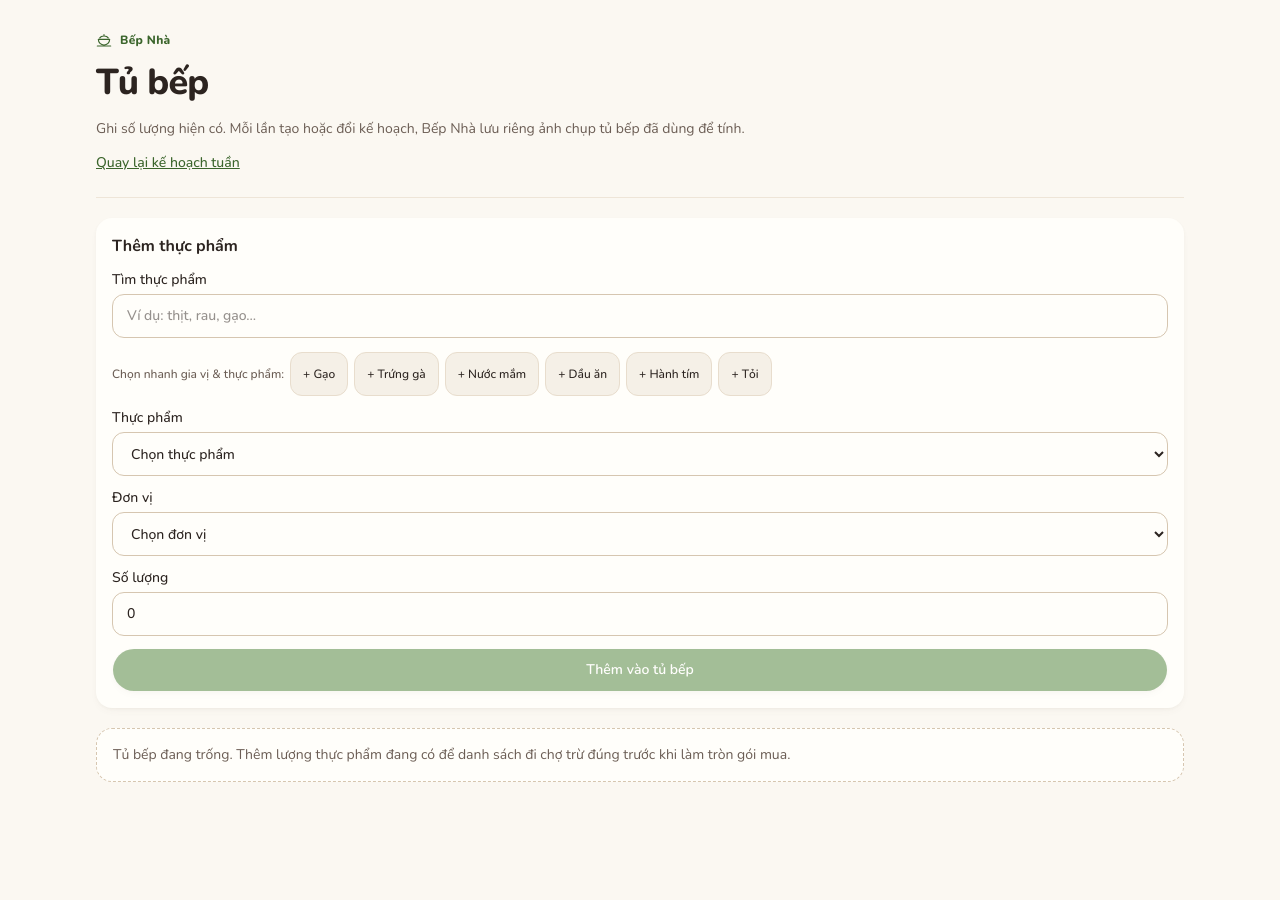
Test: PantryPage › remembers a successful save and offers it again after removal
The image size is (1280, 900).
Expected: the heading "Tủ bếp" is shown, top-left (96, 58), bottom-right (208, 107)
What coordinates should you click on to do the following:
click the button "+ Gạo"
I would click on:
 (319, 374)
Its box is top-left (290, 352), bottom-right (348, 396).
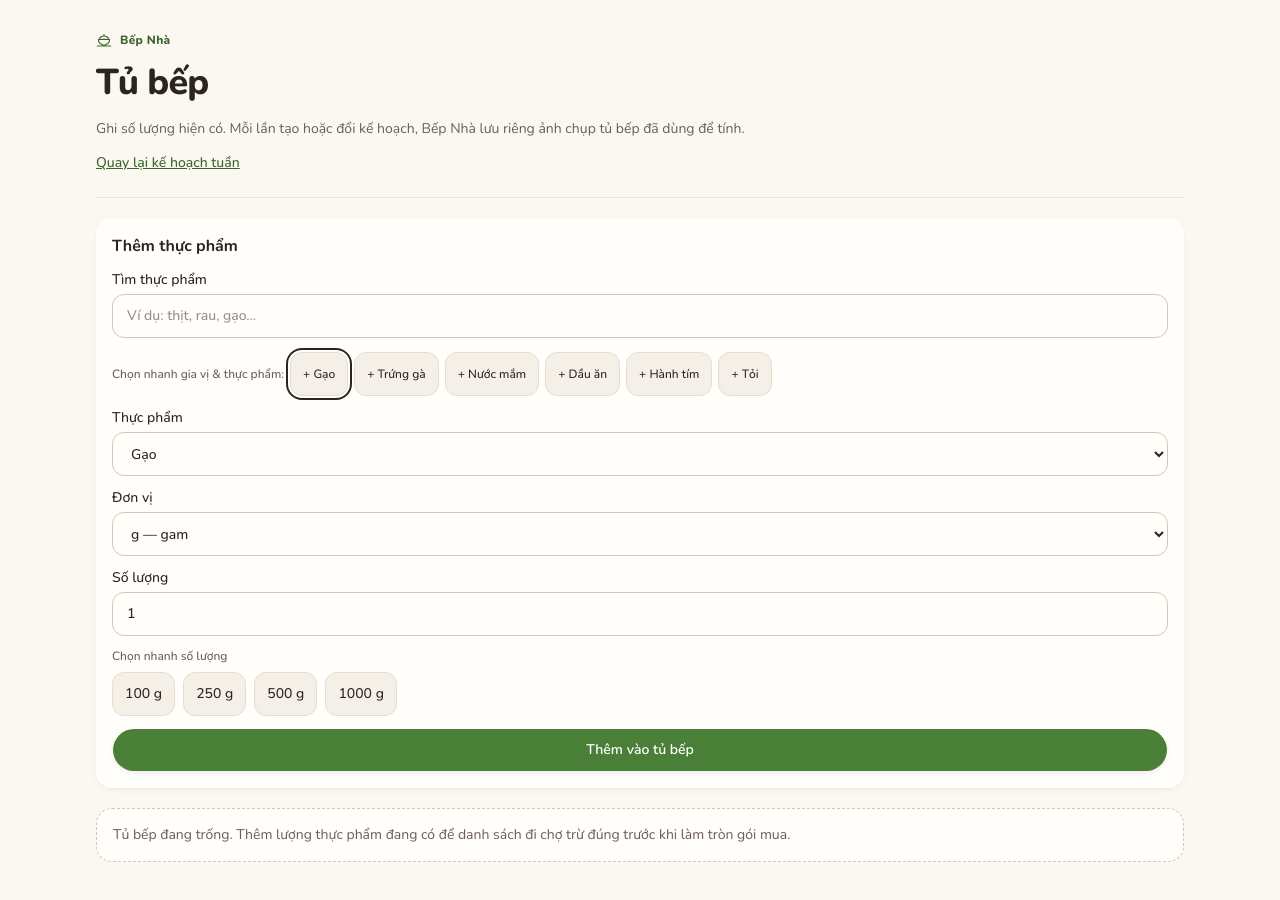
What coordinates should you click on to do the following:
click the button "Thêm vào tủ bếp"
I would click on:
 (640, 750)
Its box is top-left (112, 728), bottom-right (1168, 772).
(page scrolled)
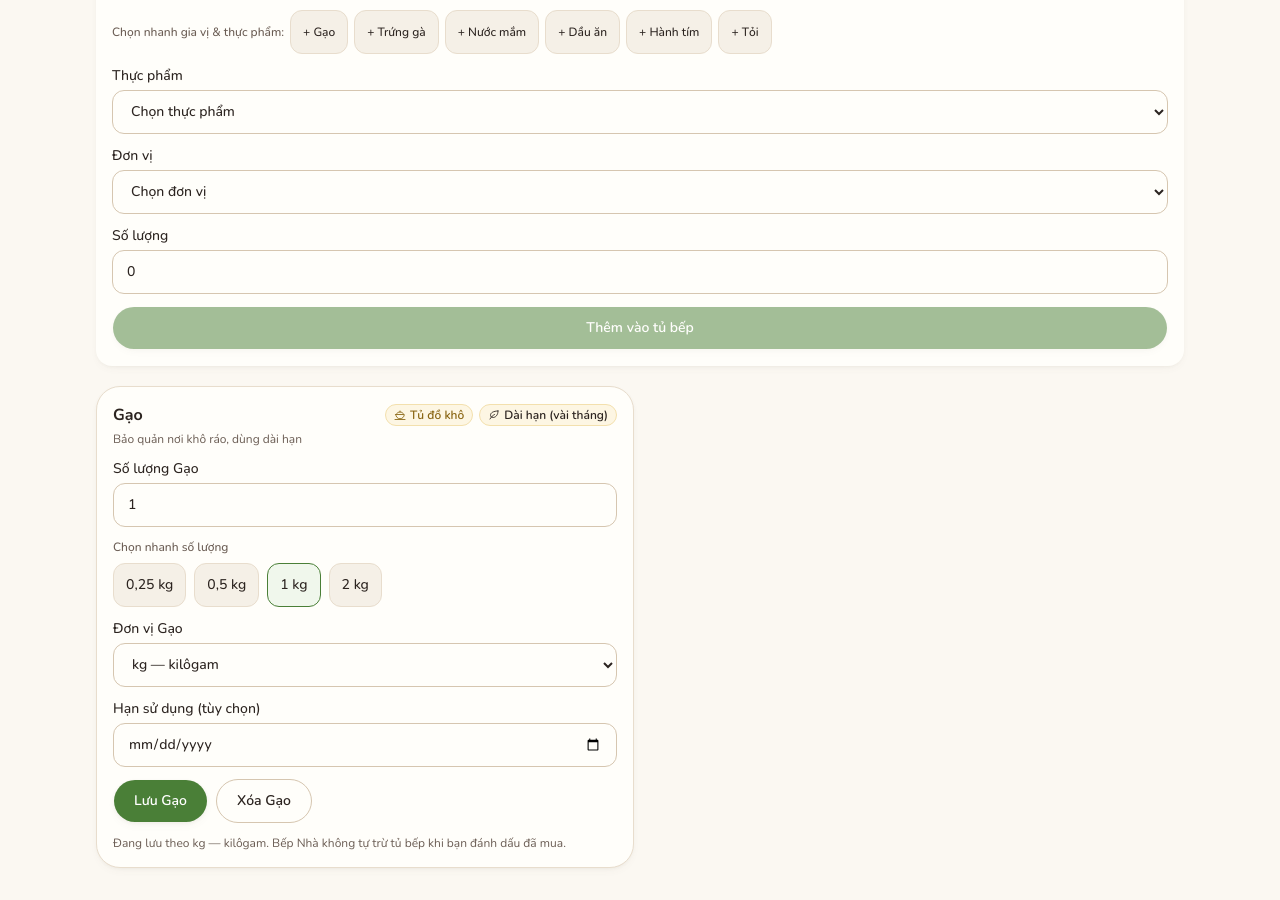
Result: the list item with test id "pantry-item-pantry-rice" is shown at top-left (96, 386), bottom-right (634, 868)
What coordinates should you click on to do the following:
click the button "Xóa Gạo"
I would click on:
 (264, 800)
Its box is top-left (216, 778), bottom-right (312, 822).
(page scrolled)
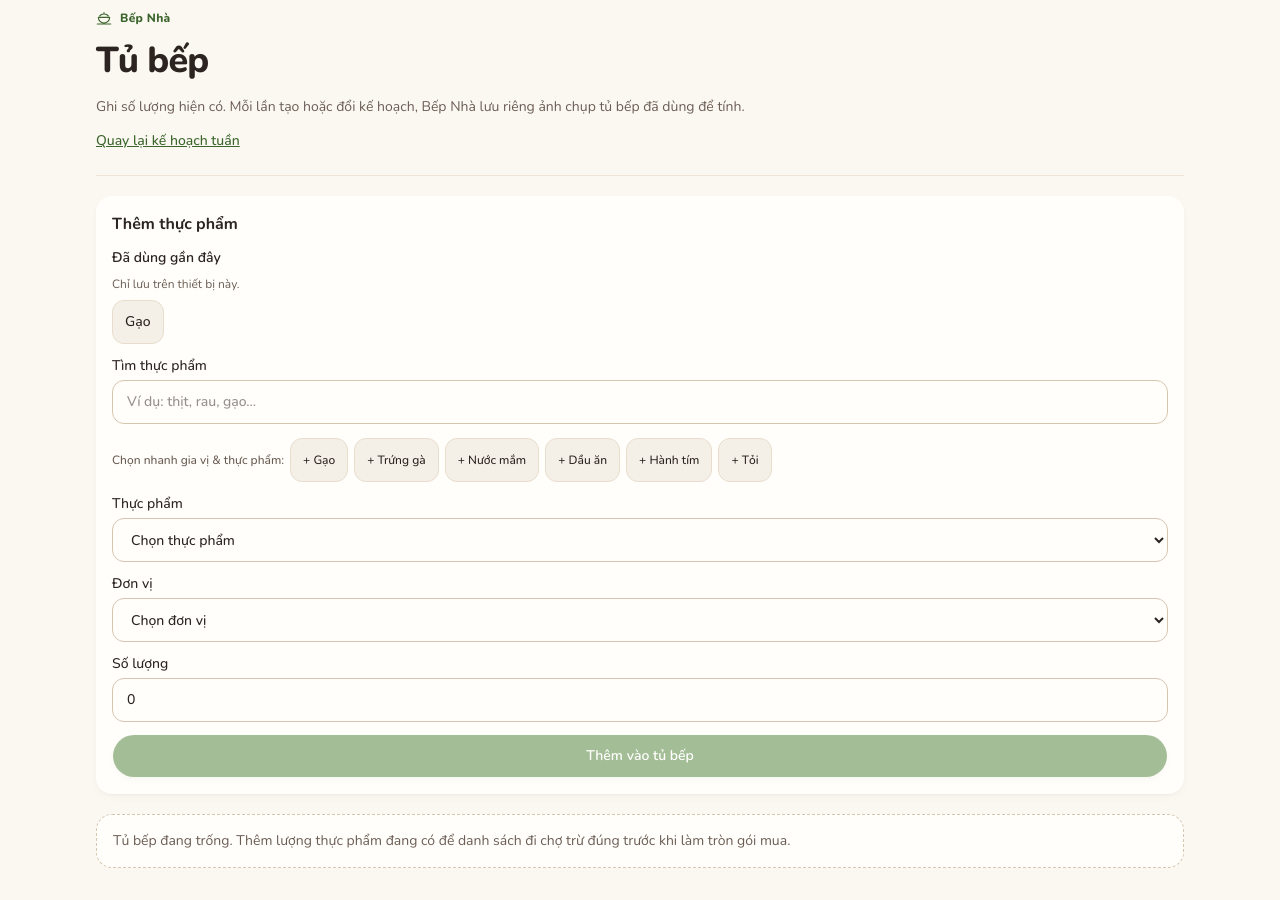
Result: the text "Chỉ lưu trên thiết bị này." is shown at top-left (112, 276), bottom-right (240, 292)
What coordinates should you click on to do the following:
click the button with aria-label "Chọn lại Gạo"
I would click on:
 (138, 322)
Its box is top-left (112, 300), bottom-right (164, 344).
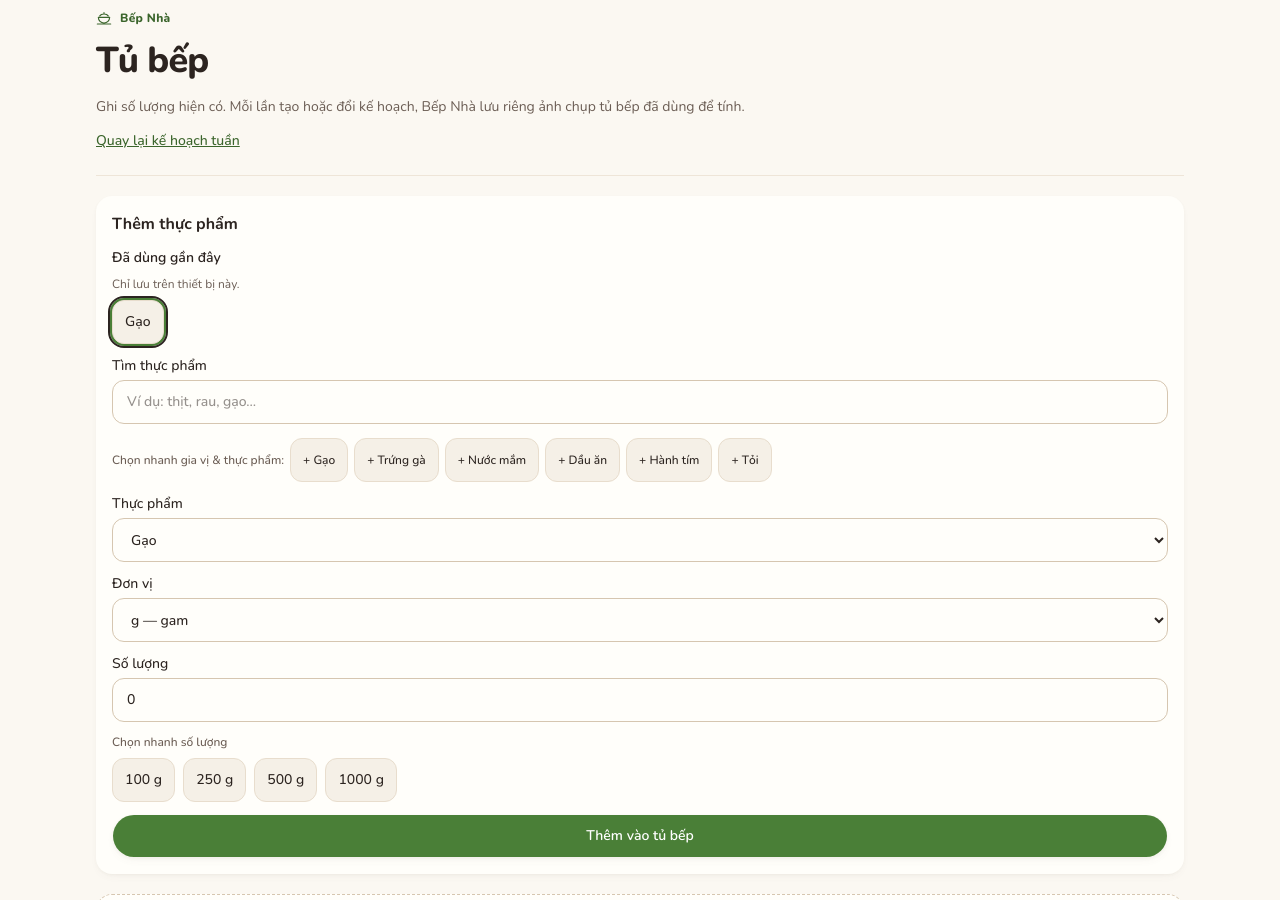
Result: the number field labelled "Số lượng" holds "0" at top-left (112, 678), bottom-right (1168, 722)
Result: the dropdown labelled "Thực phẩm" shows "Gạo" at top-left (112, 518), bottom-right (1168, 562)
